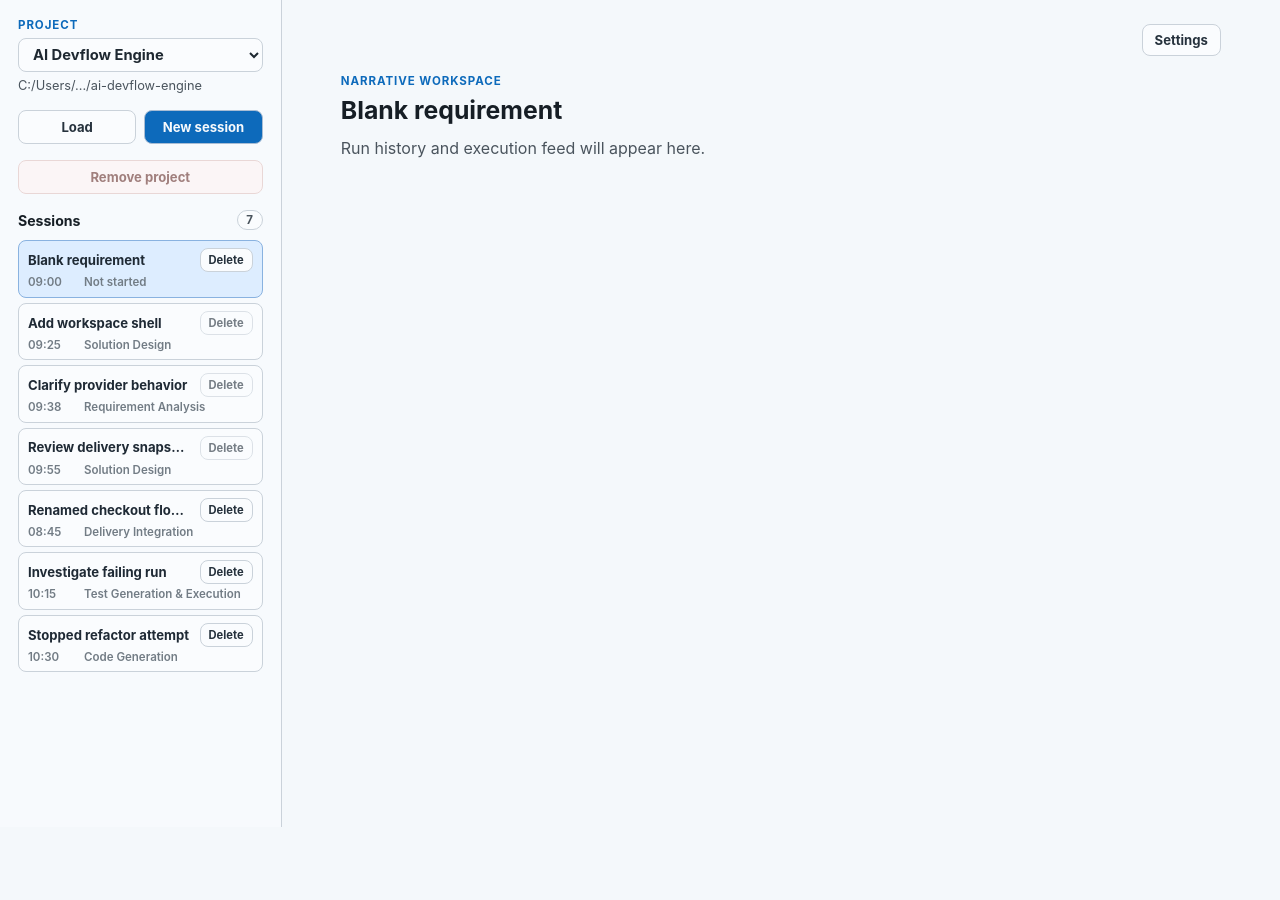
Test: Feed Inspector opening › closes and clears the Inspector target when the selected project changes
Click the button with aria-label "Open Add workspace shell" at (110, 323), box [28,315,192,331]
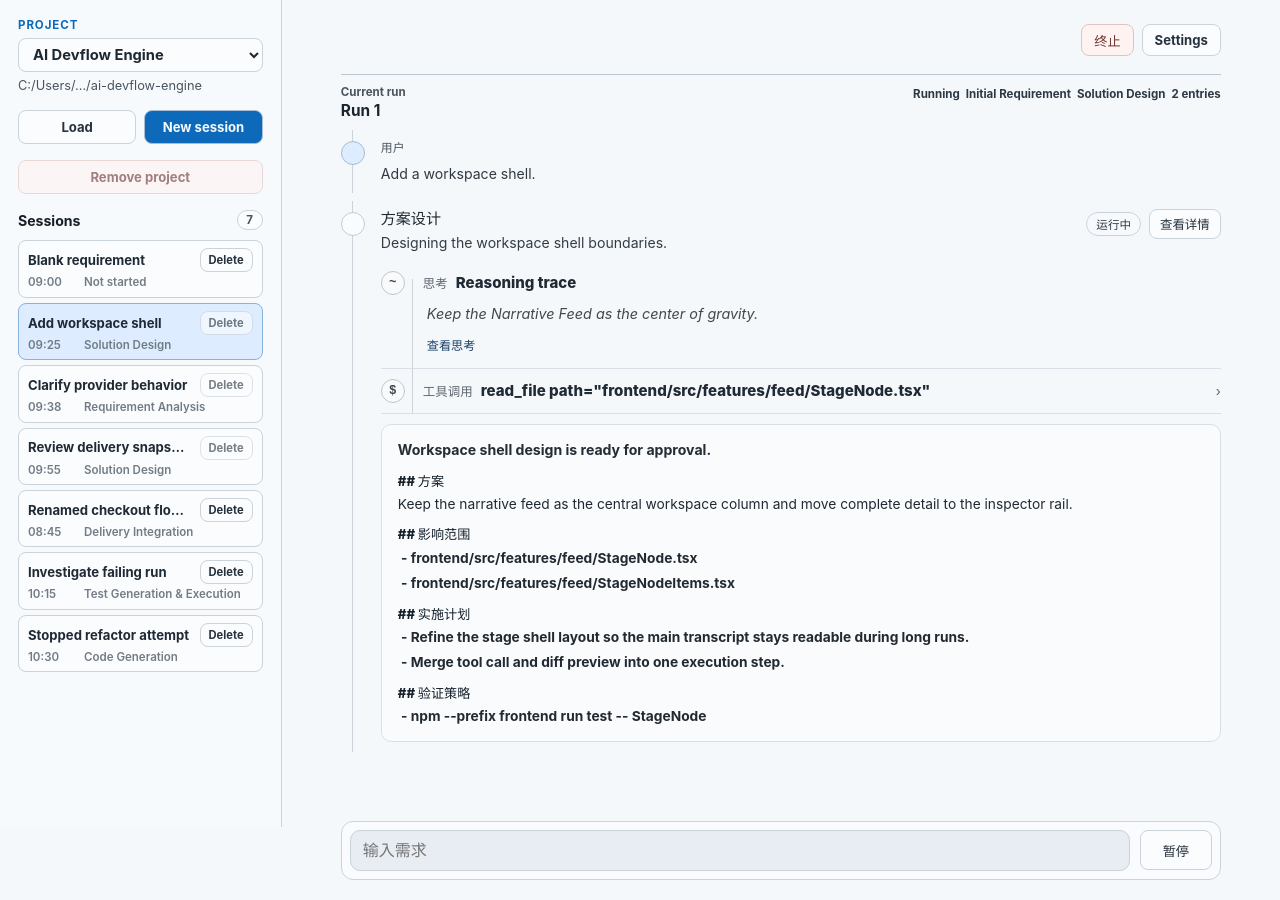
Click the button with aria-label "查看方案设计详情" at (1185, 224), box [1149,209,1221,239]
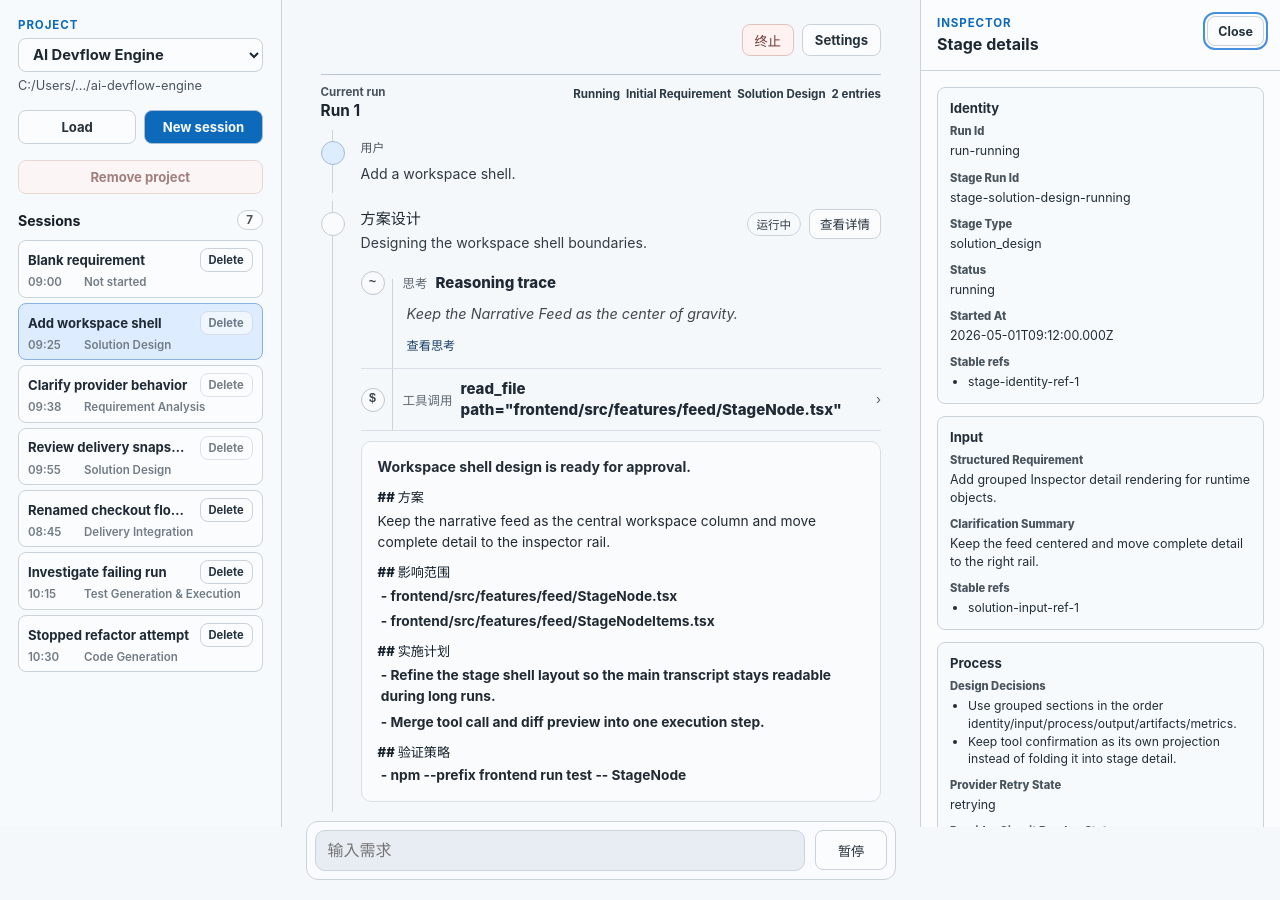
Expected: the heading "Stage details" is shown, [937,34,1039,54]
Expected: the text "stage-solution-design-running" is shown, [950,190,1131,204]
Select "Checkout Service" in the dropdown named "Switch project" at (140, 55), box [18,38,263,72]
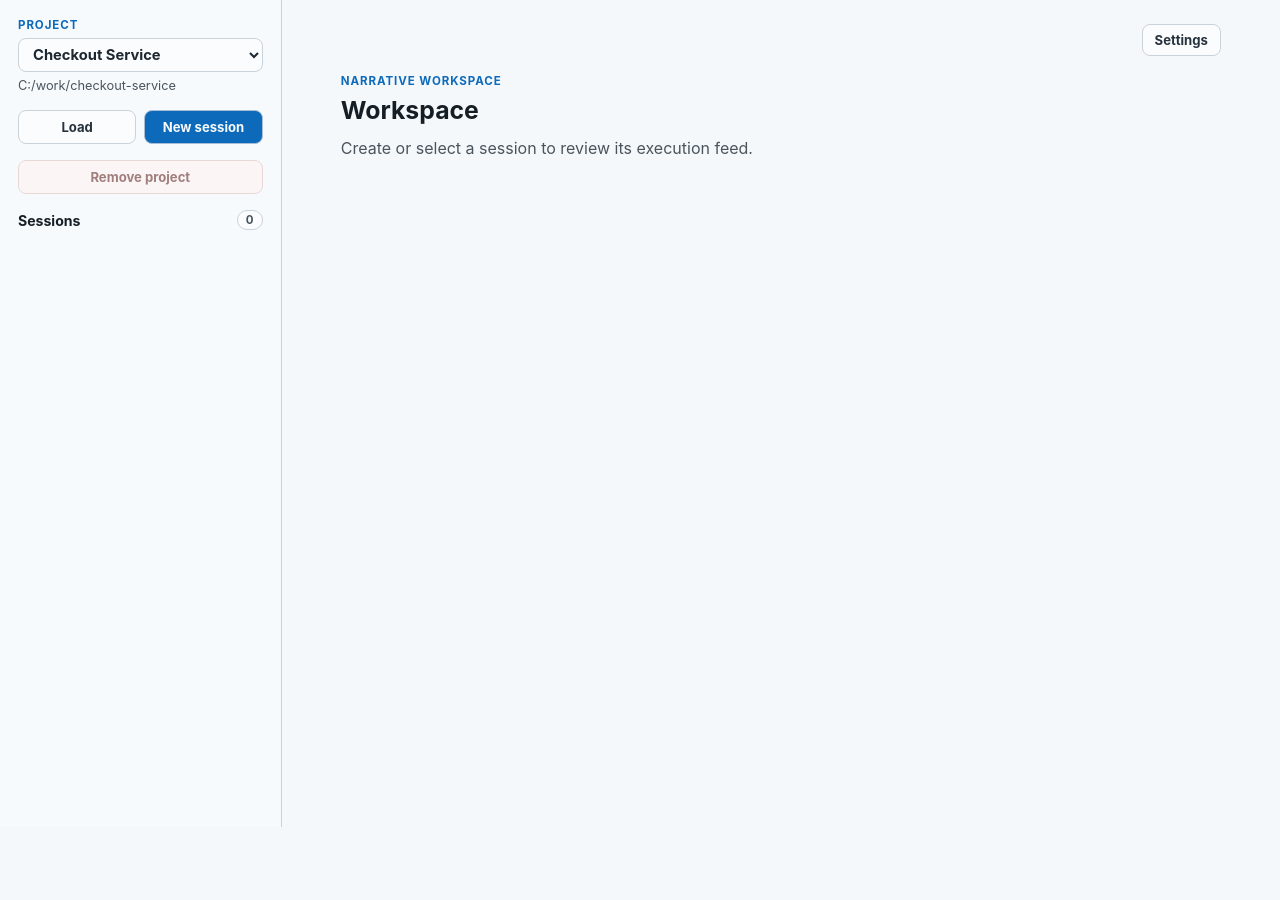
Expected: the text "Inspector" is gone
Expected: the text "stage-solution-design-running" is gone
